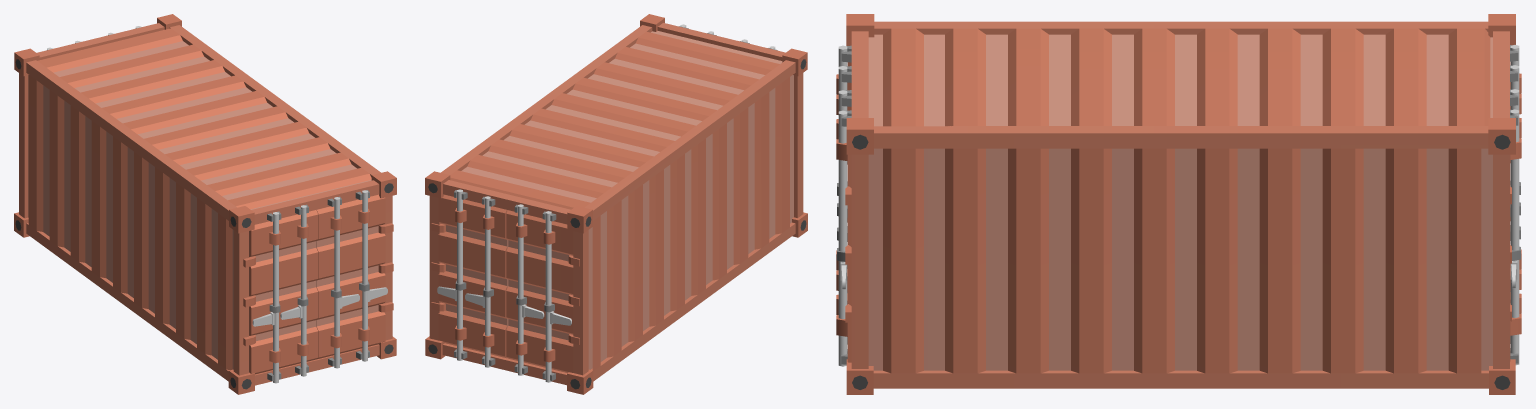
Rendered from container_001.glb.
3 views of the same model, side by side, from view 1: azimuth 30°, elevation 25°; view 2: azimuth 150°, elevation 25°; view 3: azimuth 270°, elevation 25° (orthographic). The views are drawn at different scales.
Parts seen in each view (by area): view 1: container_001; view 2: container_001; view 3: container_001.
Part boxes in pixels (box(x1,y1,x2,y2)): container_001: box(14, 14, 396, 394); container_001: box(425, 14, 807, 394); container_001: box(836, 14, 1521, 394).
Bounding box in the file's own units: 2.53 × 2.7 × 6.29.
Materials: 1 (1 with a texture image).
